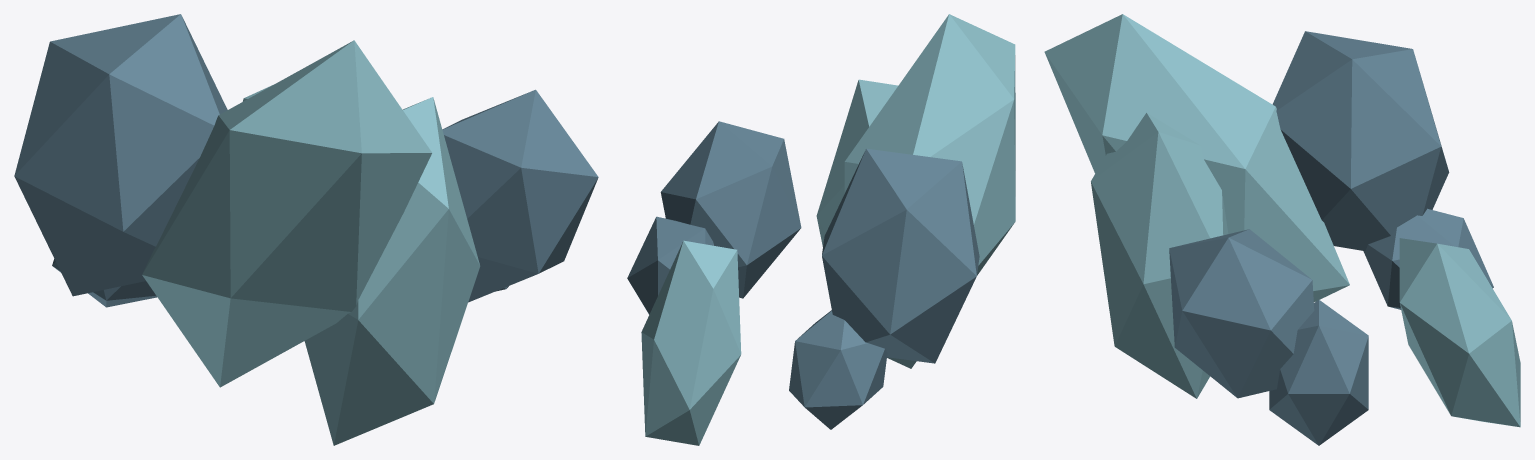
Rendered from boundary-cluster.glb.
3 renders of one model, left to right at view 1: azimuth 30°, elevation 25°; view 2: azimuth 150°, elevation 25°; view 3: azimuth 270°, elevation 25°, orthographic. The views are drawn at different scales.
Visible parts, largest first — view 1: rock_5, rock_2, rock_1, rock_4, rock_6; view 2: rock_2, rock_5, rock_3, rock_4, rock_6, rock_1, rock_0; view 3: rock_5, rock_2, rock_1, rock_4, rock_3, rock_0, rock_6.
Part boxes in pixels (left/top/right/bottom): rock_5: left=142, top=40, right=431, bottom=387; rock_2: left=14, top=14, right=227, bottom=296; rock_1: left=304, top=97, right=480, bottom=445; rock_4: left=442, top=89, right=598, bottom=302; rock_6: left=52, top=259, right=156, bottom=307; rock_2: left=822, top=148, right=979, bottom=363; rock_5: left=844, top=14, right=1015, bottom=368; rock_3: left=641, top=240, right=741, bottom=445; rock_4: left=660, top=121, right=801, bottom=298; rock_6: left=789, top=310, right=887, bottom=429; rock_1: left=816, top=79, right=897, bottom=246; rock_0: left=627, top=216, right=714, bottom=314; rock_5: left=1044, top=14, right=1349, bottom=302; rock_2: left=1272, top=31, right=1449, bottom=250; rock_1: left=1091, top=112, right=1228, bottom=398; rock_4: left=1169, top=229, right=1314, bottom=398; rock_3: left=1399, top=238, right=1520, bottom=427; rock_0: left=1269, top=300, right=1368, bottom=445; rock_6: left=1363, top=208, right=1493, bottom=309.
Size of what is drawn, in the model's own units: 2.44 by 2.15 by 2.56.
